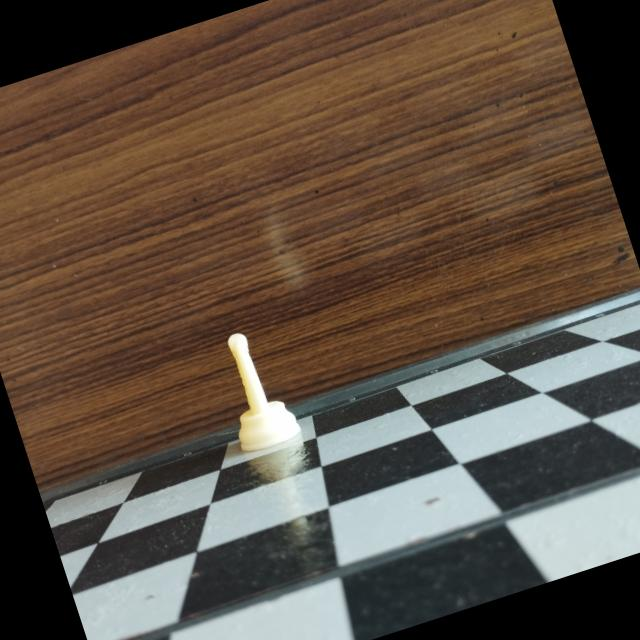White Knight: (194, 314, 312, 466)
